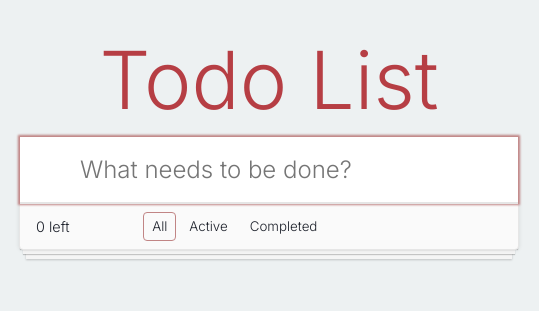
Testing Todos › should render a todo item when the user add it
This screenshot has width=539, height=311.
Type "Todo item" into the field with placeholder "What needs to be done?" at point(269, 170), box 20,137 -> 518,204
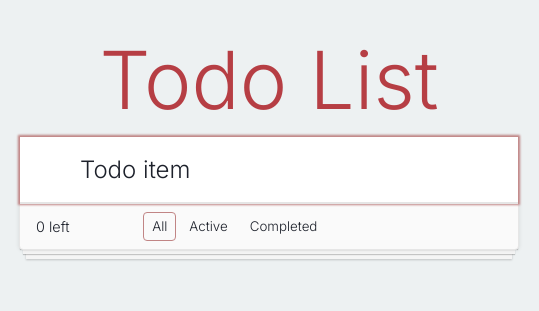
Submit the form from the field with placeholder "What needs to be done?", box 20,137 -> 518,204
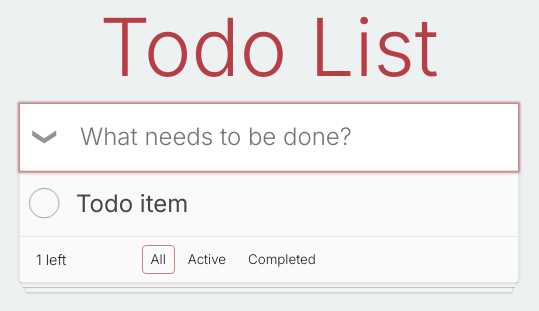
Expected: the text "Todo item" is shown, 76,189 -> 188,218
